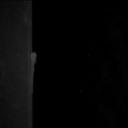fish: (30, 52, 36, 94)
